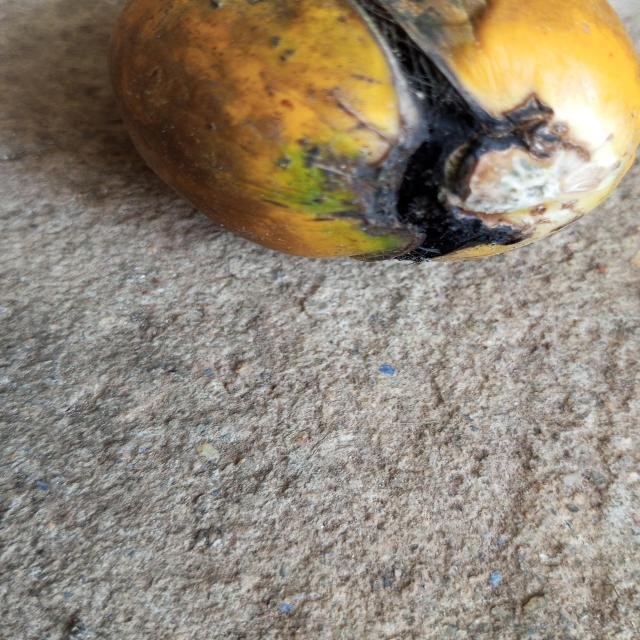damaged: (111, 0, 640, 261)
